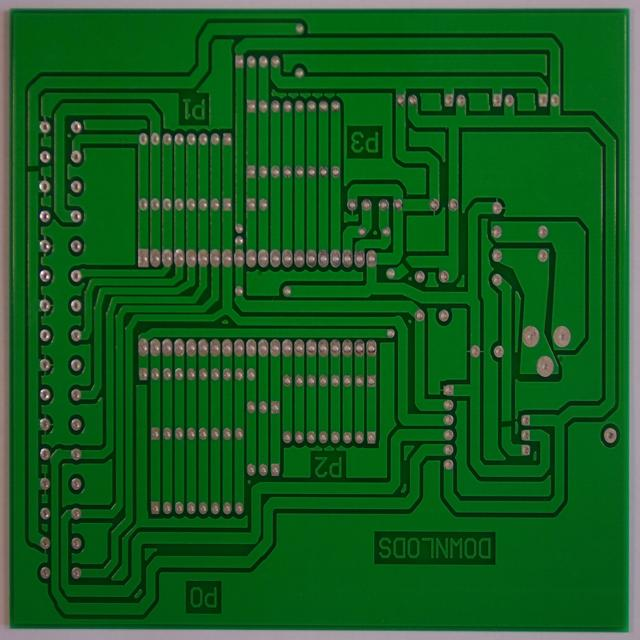open_circuit: (398, 254, 415, 274), (499, 417, 513, 433), (26, 161, 41, 175)
